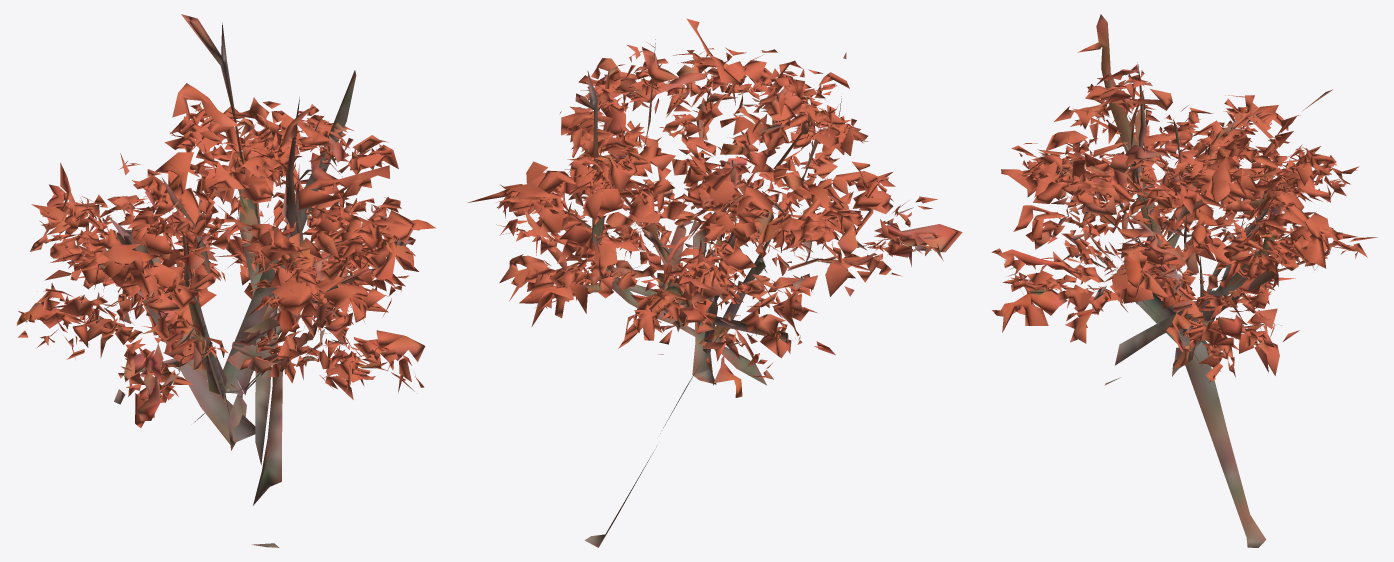
Rendered from tree_14_autumn_rust.glb.
3 views of the same model, side by side, from view 1: azimuth 30°, elevation 25°; view 2: azimuth 150°, elevation 25°; view 3: azimuth 270°, elevation 25° (orthographic). The views are drawn at different scales.
Visible parts, largest first — view 1: geometry_0; view 2: geometry_0; view 3: geometry_0.
Part boxes in pixels (x1,y1,x2,y2): geometry_0: (16, 14, 435, 547); geometry_0: (467, 19, 962, 547); geometry_0: (991, 14, 1377, 547).
Size of the model in its own units: 0.7554 by 1 by 0.7734.
Materials: 1 (1 with a texture image).
